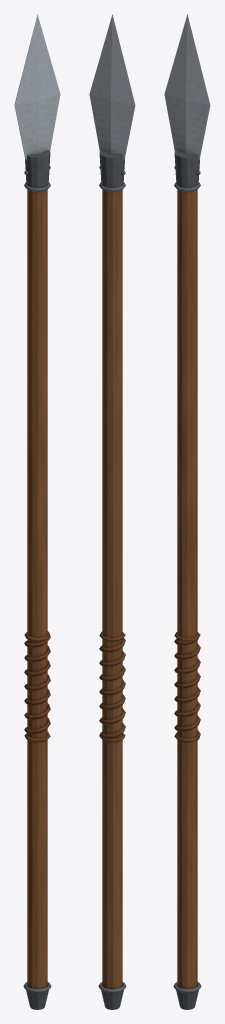
Rendered from 01_plains_spear.fbx.
3 renders of one model, left to right at view 1: azimuth 30°, elevation 25°; view 2: azimuth 150°, elevation 25°; view 3: azimuth 330°, elevation 25°, orthographic.
Parts seen in each view (by area): view 1: Weapon; view 2: Weapon; view 3: Weapon.
Boxes of the visible parts, x1,y1,x2,y2 form: Weapon: (14,14,60,1009); Weapon: (89,14,135,1009); Weapon: (164,14,210,1009).
Size of the model in its own units: 10.8 by 224 by 5.78.
1 material, 1 textured.
